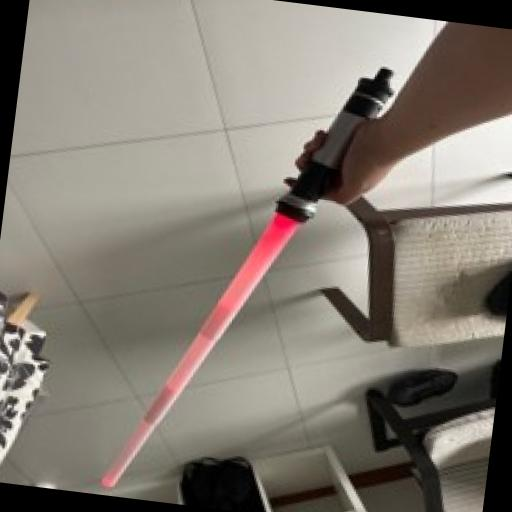sith saber: (102, 38, 395, 512)
